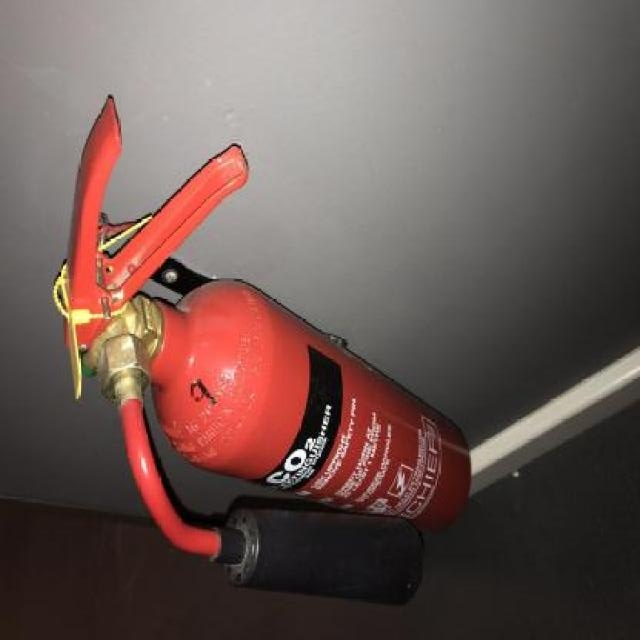fire extinguisher: (59, 97, 472, 606)
